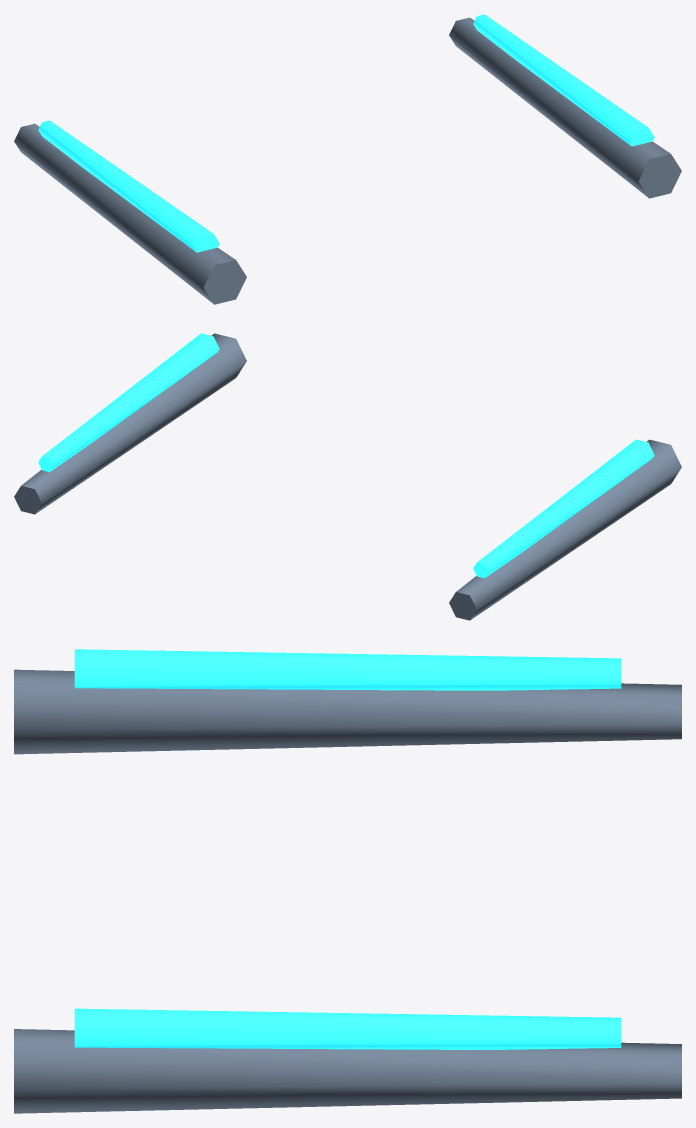
Rendered from upgrade_piercing.glb.
3 views of the same model, one above another, from view 1: azimuth 30°, elevation 25°; view 2: azimuth 150°, elevation 25°; view 3: azimuth 270°, elevation 25° (orthographic). The views are drawn at different scales.
Parts seen in each view (by area): view 1: MODULE // COIL LANCES; view 2: MODULE // COIL LANCES; view 3: MODULE // COIL LANCES.
Boxes of the visible parts, <box> form: MODULE // COIL LANCES: <box>14,14,681,304</box>; MODULE // COIL LANCES: <box>14,333,681,620</box>; MODULE // COIL LANCES: <box>14,649,681,1113</box>.
Size of the model in its own units: 1.54 by 0.1653 by 1.1.
